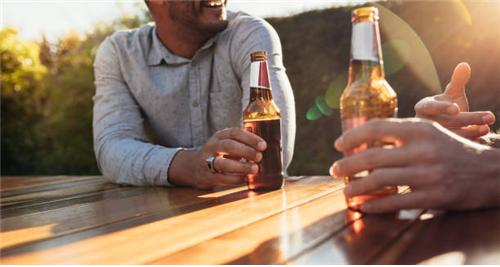alcohol: (341, 7, 399, 211), (235, 50, 286, 195)
